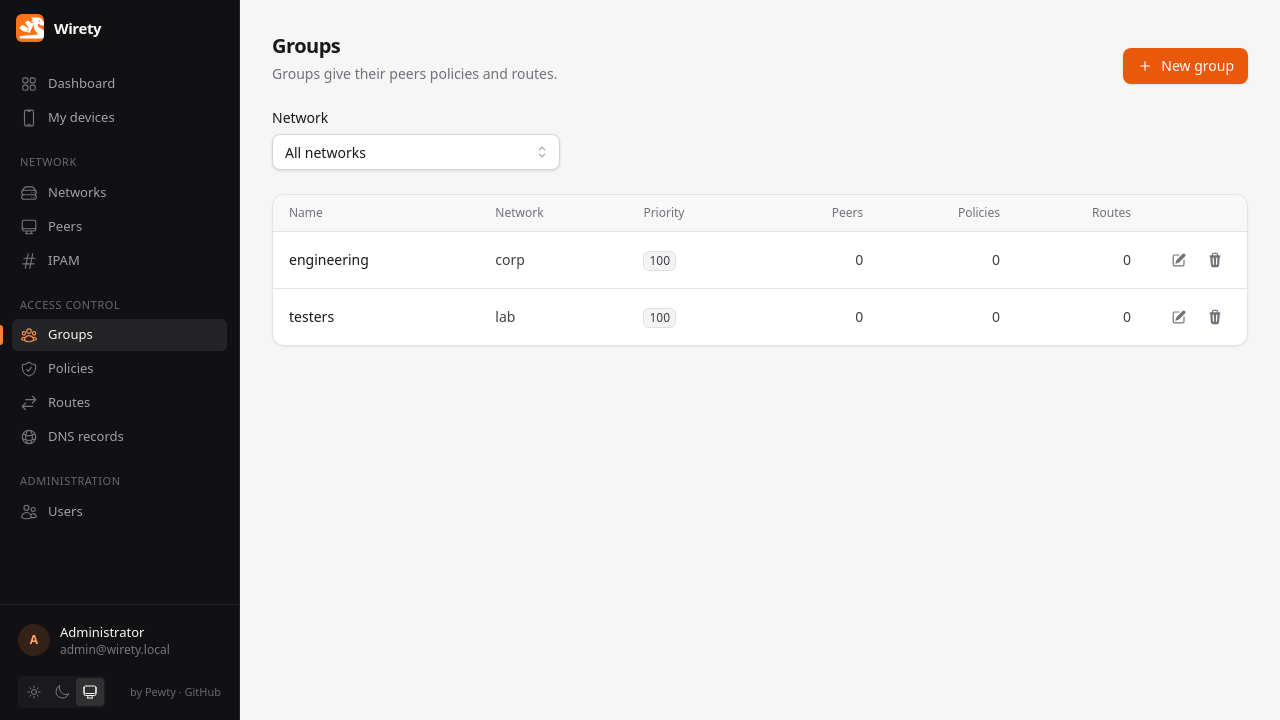
Test: Groups › filters the list by network
Expected: the text "testers" is shown, 289,307 -> 334,326
Click the dropdown labelled "Network" at coordinates (416, 152), box 272,134 -> 560,170
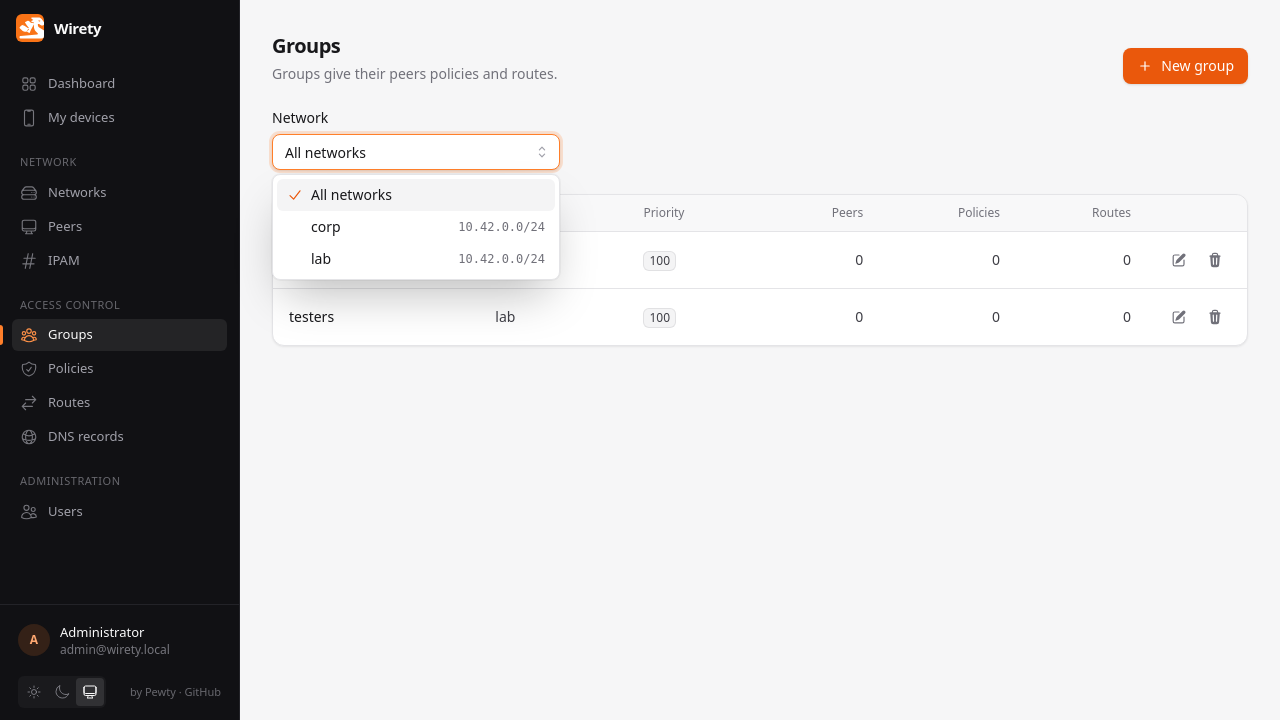
Click the option "lab 10.42.0.0/24" at coordinates (502, 259), box 311,249 -> 545,268
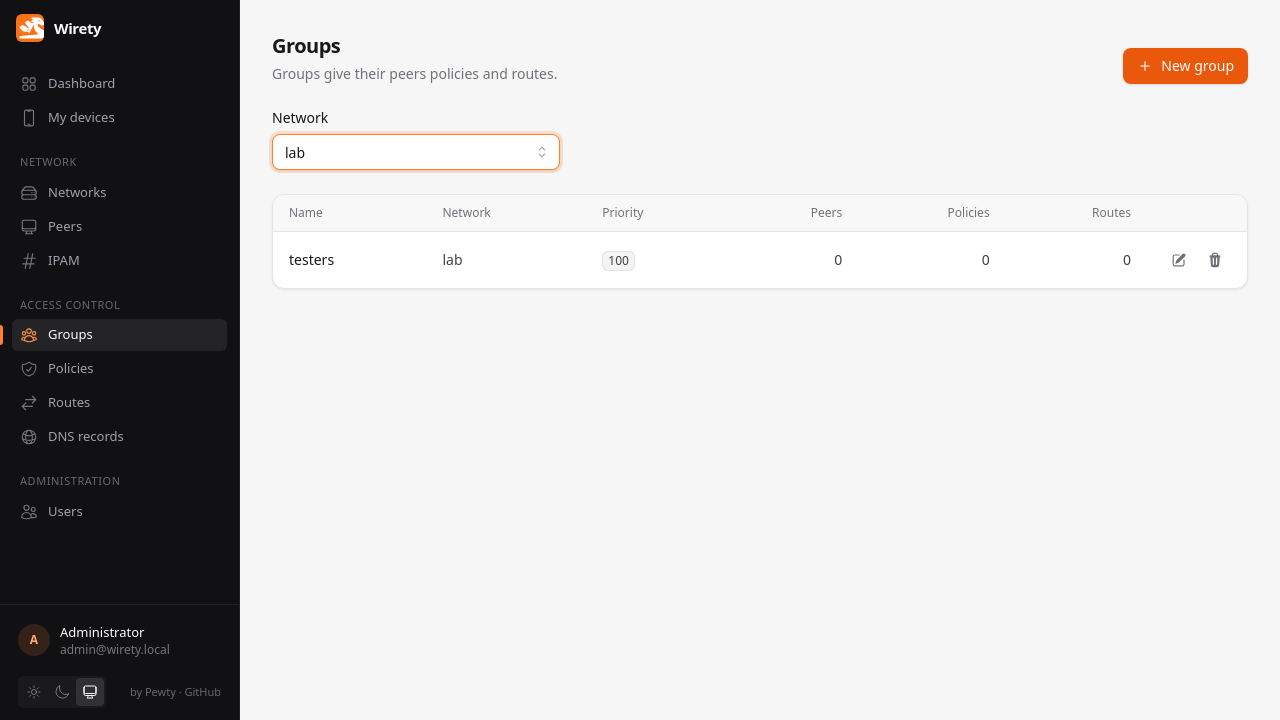
Expected: the text "testers" is shown, 289,250 -> 334,269
Result: the text "engineering" is gone
